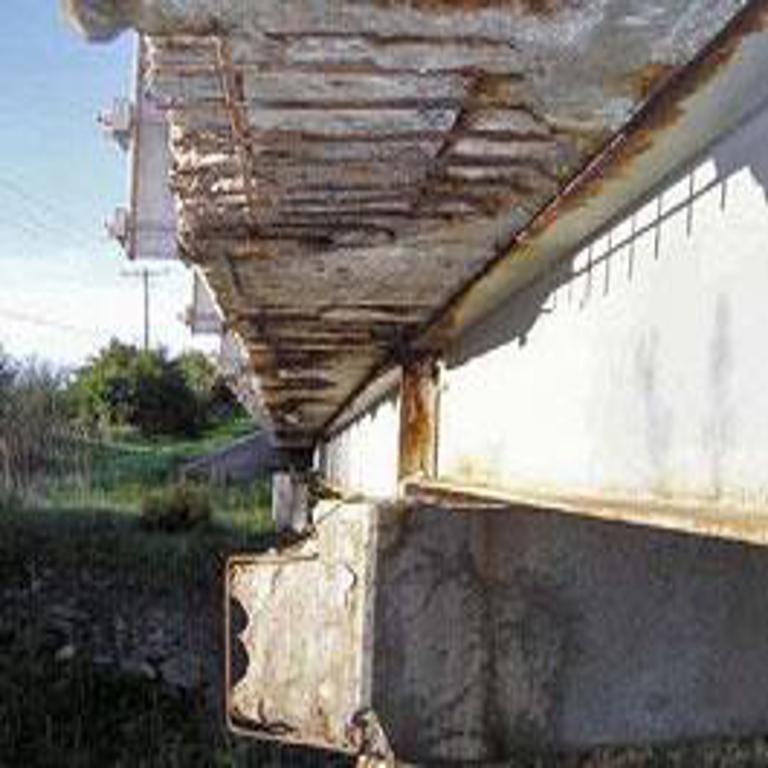spalling: (156, 0, 746, 445)
